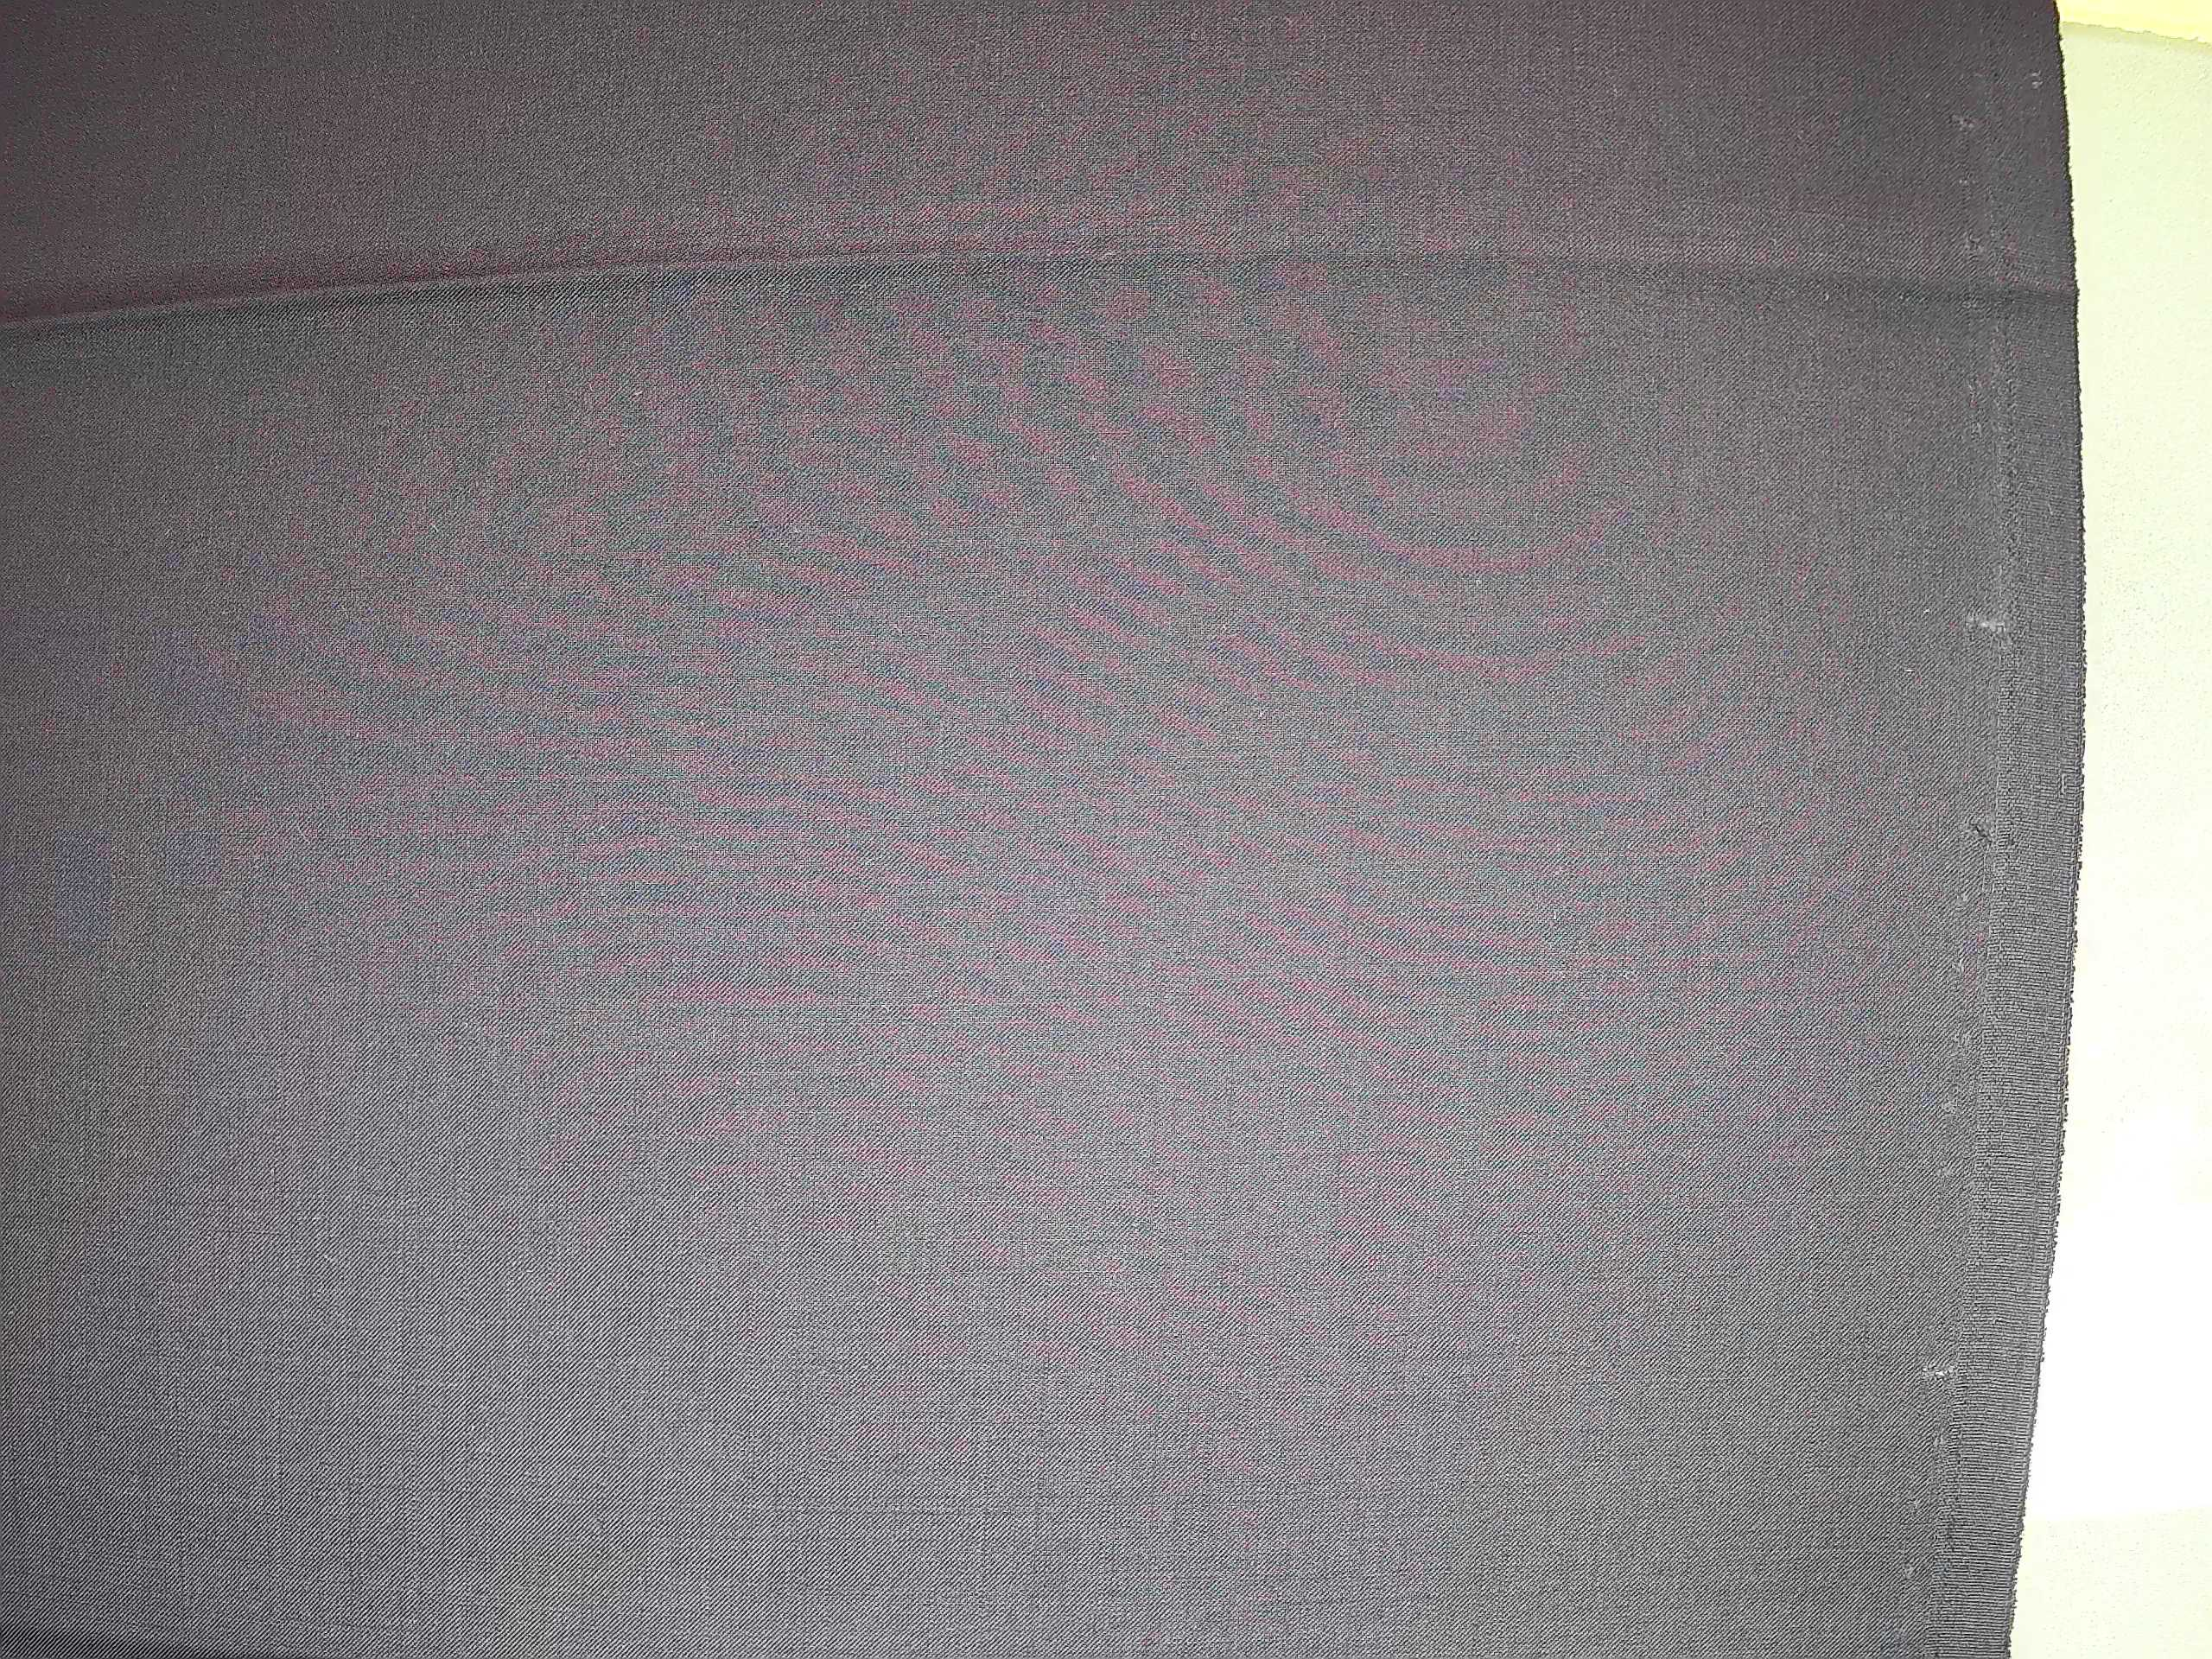rubbing-hole: (1952, 596, 2033, 660), (1905, 1345, 1970, 1398), (1959, 807, 2003, 852), (1965, 371, 1989, 443), (1942, 105, 1986, 138), (1928, 1152, 1965, 1188), (1956, 223, 1989, 263), (1930, 1089, 1965, 1126), (1944, 1023, 1979, 1058), (1954, 288, 1989, 319), (1893, 1554, 1925, 1586), (1947, 882, 1979, 911), (1926, 1425, 1954, 1453), (1946, 950, 1970, 979), (1904, 1490, 1930, 1516)
